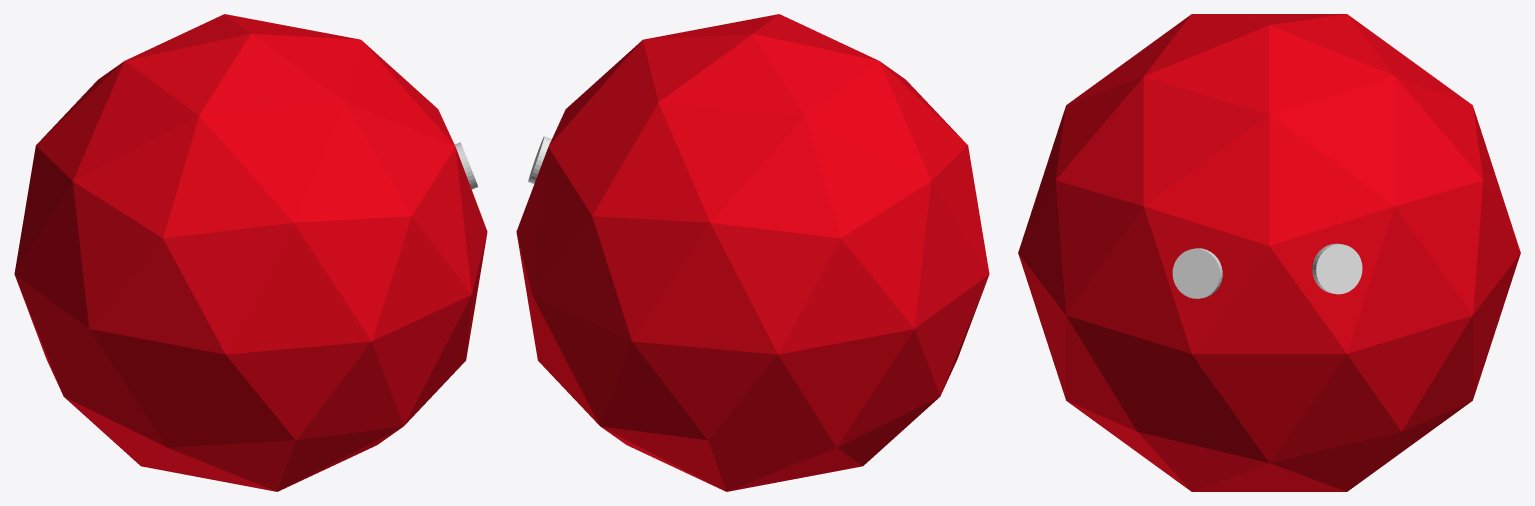
The model's file is crystal.glb.
3 renders of one model, left to right at view 1: azimuth 30°, elevation 25°; view 2: azimuth 150°, elevation 25°; view 3: azimuth 270°, elevation 25°, orthographic. The views are drawn at different scales.
Visible parts, largest first — view 1: Body; view 2: Body; view 3: Body, Left_Eye, Right_Eye.
Part boxes in pixels (x1,y1,x2,y2): Body: [14, 14, 487, 491]; Body: [516, 14, 989, 491]; Body: [1018, 14, 1520, 491]; Left_Eye: [1312, 243, 1362, 294]; Right_Eye: [1172, 248, 1222, 298].
Bounding box in the file's own units: 1.9 × 2 × 2.
